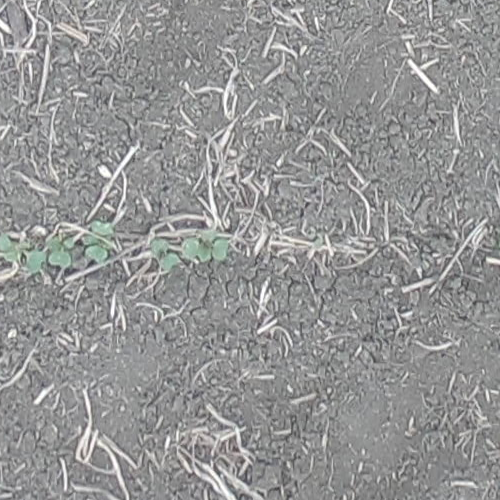isolated: (0, 235, 46, 273), (181, 229, 228, 262), (81, 217, 113, 262), (48, 234, 78, 267), (149, 238, 178, 270), (498, 222, 499, 265)
